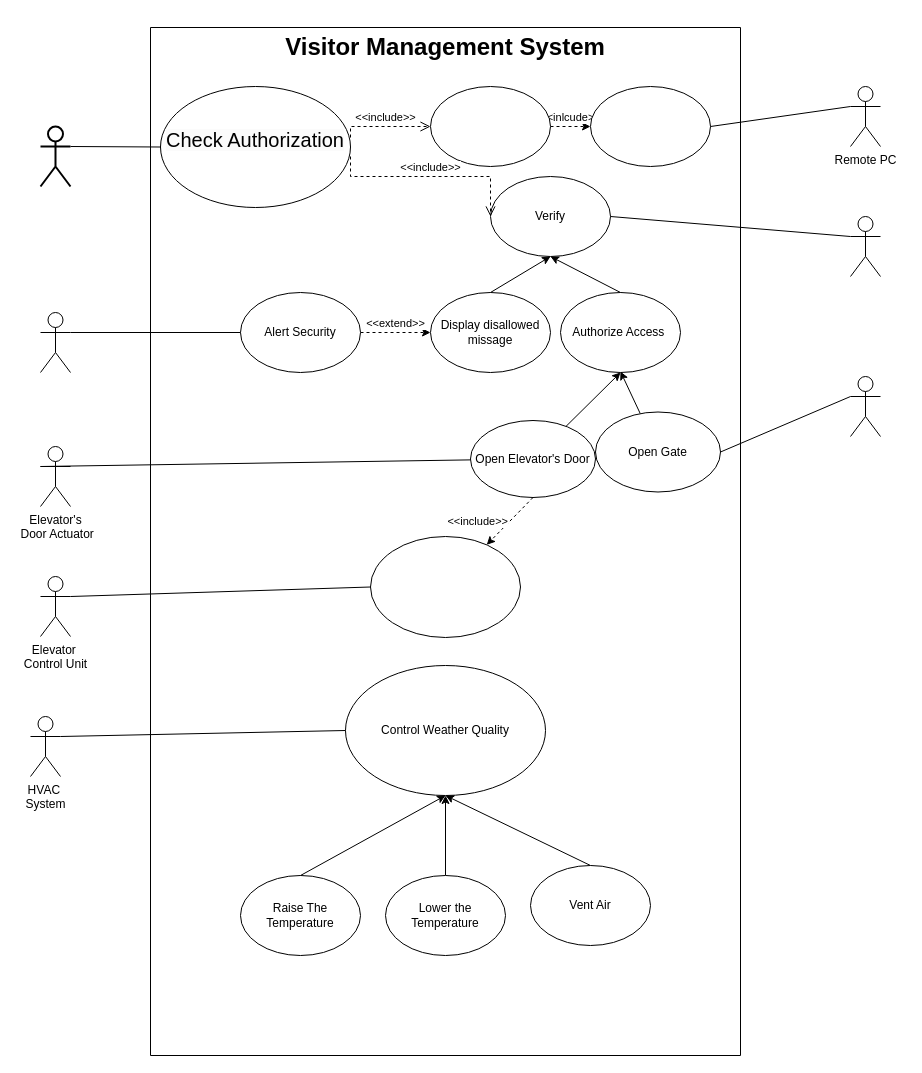
Image size: 922x1073. Some labels were removed from this diagram. The box of each missing label's shape, as (x1, y1, x2, y2) in pixels:
Alarm: (40, 312, 70, 372)
Direct The cabinet: (370, 536, 520, 638)
Gate's Door' Actuator: (850, 376, 880, 436)
Logging: (430, 86, 550, 166)
RFID Reader: (850, 216, 880, 276)
Visitor: (39, 125, 71, 187)
Wifi Transmitter: (590, 86, 710, 166)
